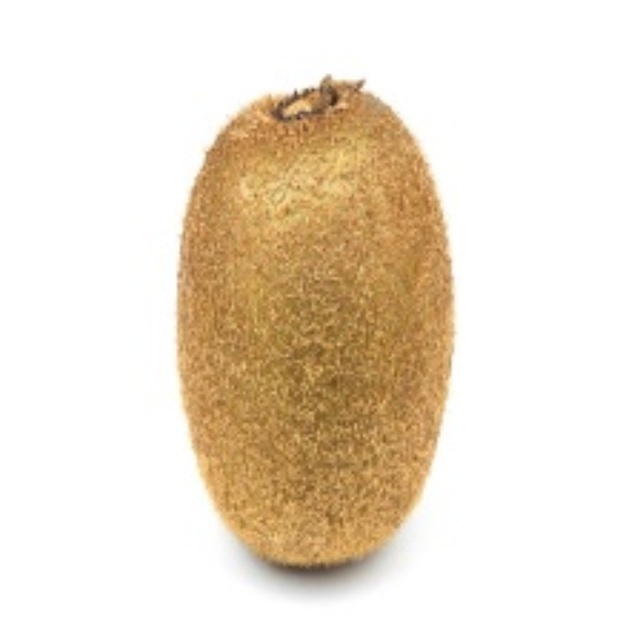kiwi: (173, 80, 446, 579)
